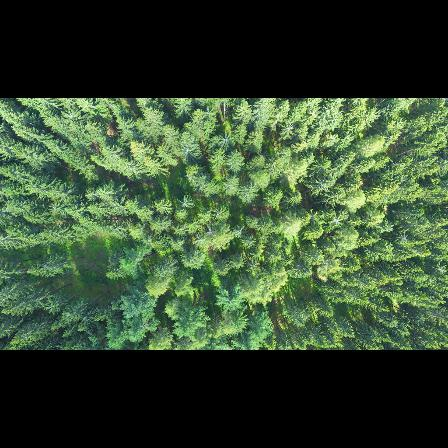Sick: (179, 141, 196, 159), (330, 211, 347, 227), (62, 106, 79, 122), (176, 196, 195, 210), (218, 130, 234, 146), (394, 234, 411, 245), (232, 224, 245, 237), (203, 224, 217, 236)
